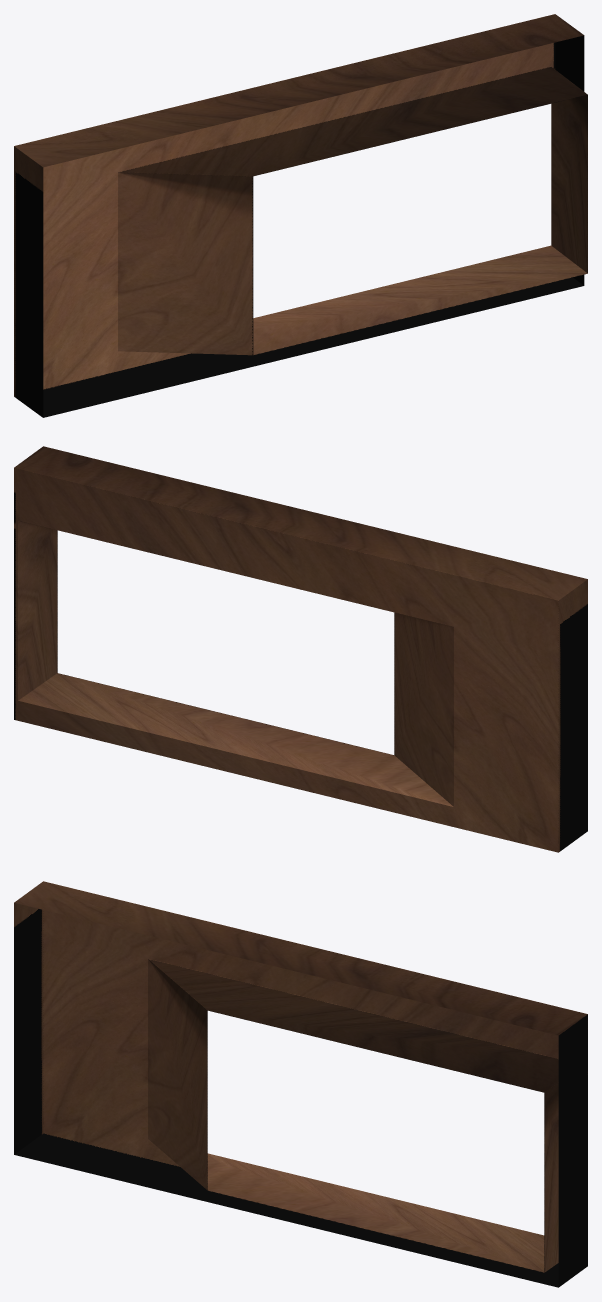
File: windowWood.obj
3 renders of one model, top to bottom at view 1: azimuth 30°, elevation 25°; view 2: azimuth 150°, elevation 25°; view 3: azimuth 330°, elevation 25°, orthographic.
Parts seen in each view (by area): view 1: Mesh.001_Plane.004; view 2: Mesh.001_Plane.004; view 3: Mesh.001_Plane.004.
Boxes of the visible parts, bbox=[...] form: Mesh.001_Plane.004: bbox=[14, 14, 587, 417]; Mesh.001_Plane.004: bbox=[14, 446, 587, 852]; Mesh.001_Plane.004: bbox=[14, 881, 587, 1287].
Size of the model in its own units: 4.69 by 2.07 by 0.5698.
Materials: 1 (1 with a texture image).
